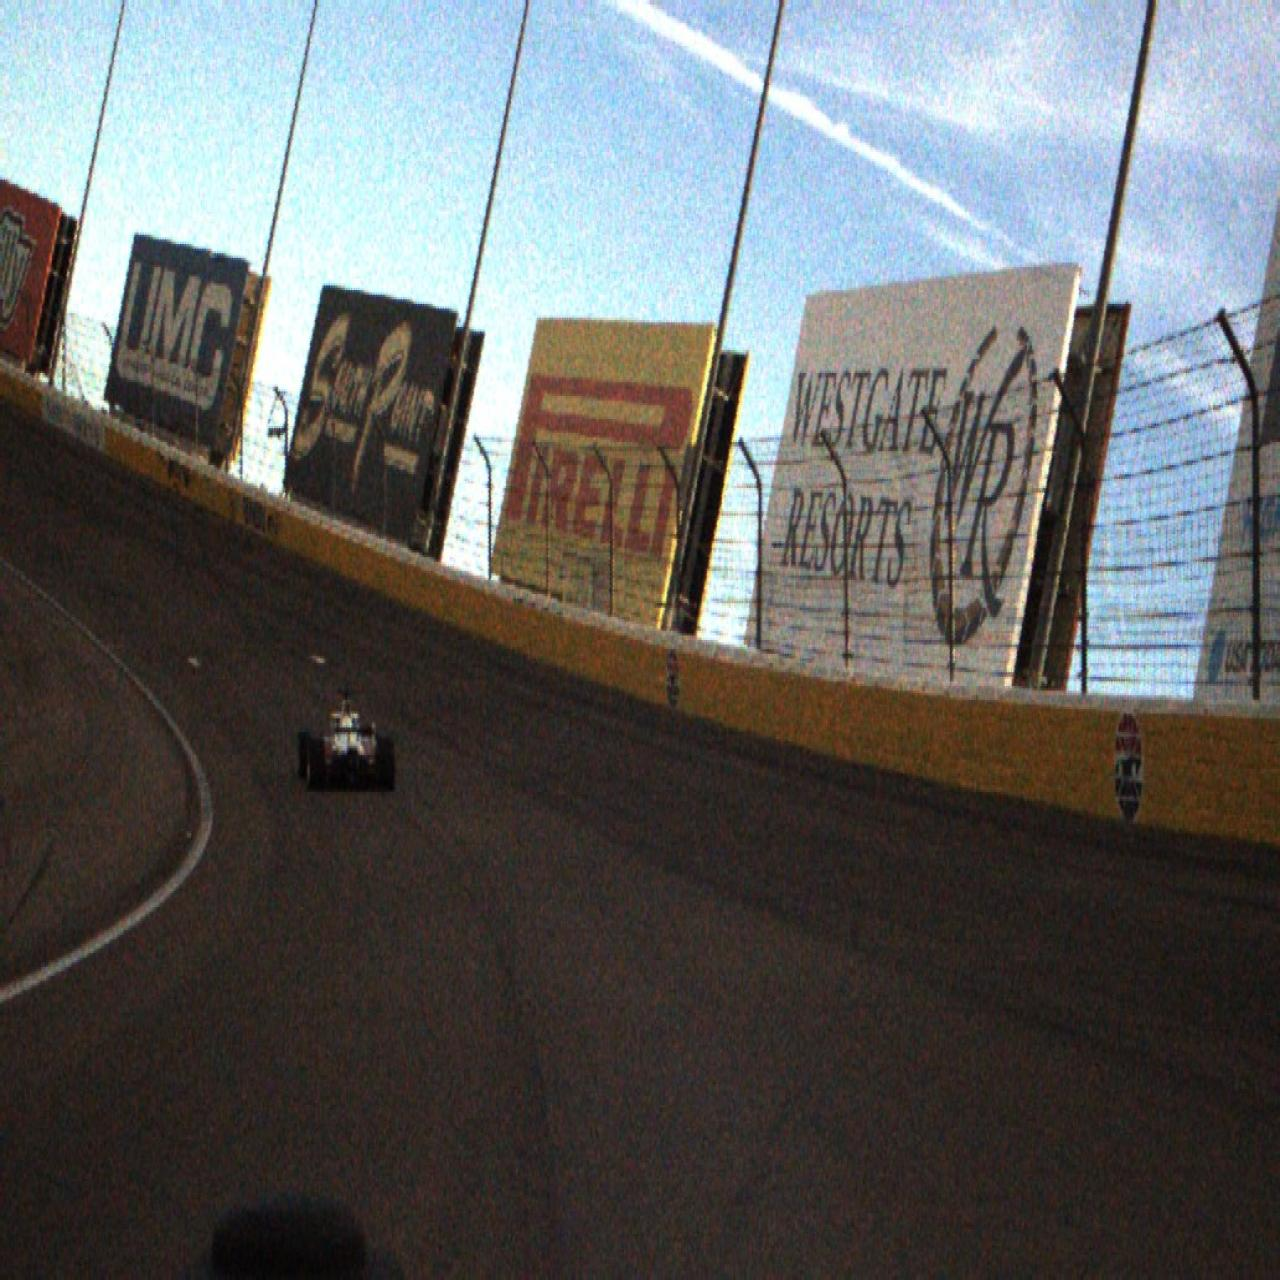AV: (297, 686, 396, 794)
Wheel: (377, 736, 396, 792), (307, 738, 325, 792), (297, 730, 311, 779)
